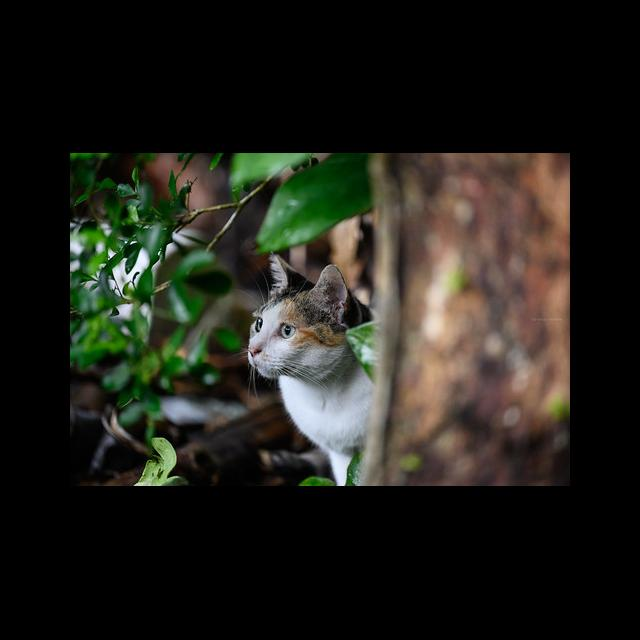animals: (247, 251, 360, 486)
